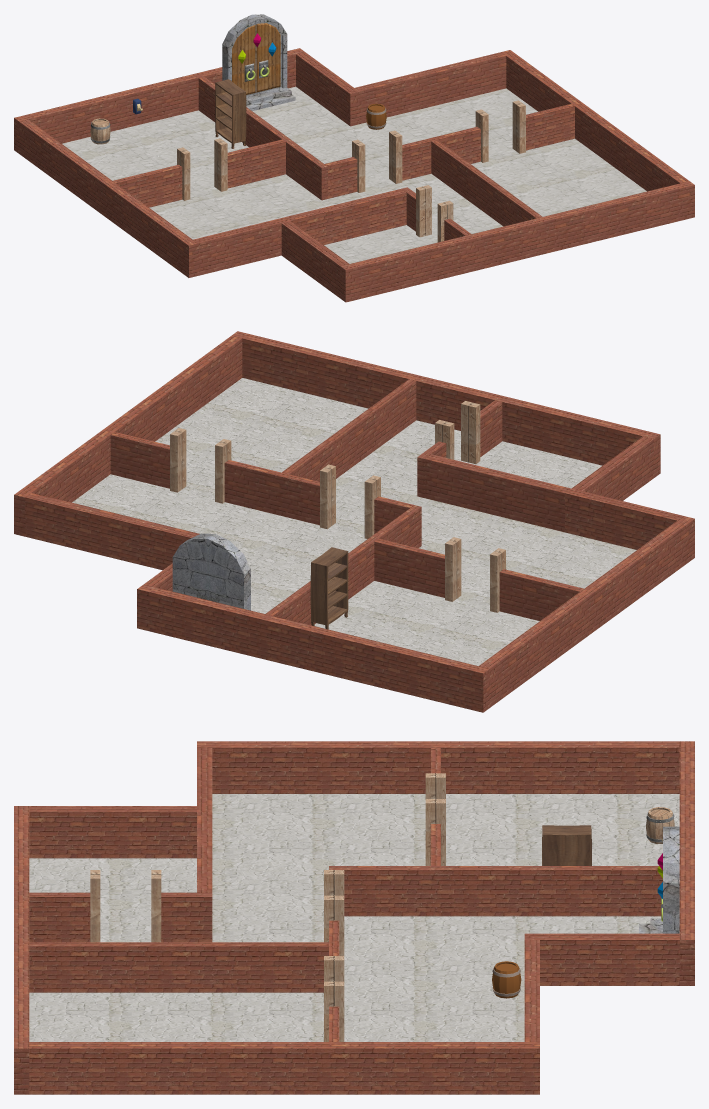
Rendered from brickwall3.glb.
3 renders of one model, top to bottom at view 1: azimuth 30°, elevation 25°; view 2: azimuth 150°, elevation 25°; view 3: azimuth 270°, elevation 25°, orthographic. The views are drawn at different scales.
Parts seen in each view (by area): view 1: floor, wall_bounds_phys.003, wall_bounds_phys.001, wall_bounds_phys, wall_bounds_phys.002, wall_bounds_phys.007, Cube.007, Cube.005, walls_internal_phys.007, walls_internal_phys.005, wall_bounds_phys.004, walls_internal_phys (+10 smaller); view 2: floor, wall_bounds_phys, wall_bounds_phys.003, wall_bounds_phys.001, wall_bounds_phys.002, Cube.007, wall_bounds_phys.007, walls_internal_phys.007, walls_internal_phys.005, Cube.005, wall_bounds_phys.004, walls_internal_phys.004 (+9 smaller); view 3: floor, wall_bounds_phys.002, wall_bounds_phys.001, walls_internal_phys, walls_internal_phys.005, wall_bounds_phys.005, wall_bounds_phys.006, Cube.007, wall_bounds_phys.003, wall_bounds_phys, walls_internal_phys.009, walls_internal_phys.008 (+7 smaller).
Part boxes in pixels (left/top/right/bottom): floor: left=62, top=86, right=646, bottom=263; wall_bounds_phys.003: left=340, top=181, right=694, bottom=302; wall_bounds_phys.001: left=19, top=119, right=197, bottom=277; wall_bounds_phys: left=14, top=48, right=304, bottom=153; wall_bounds_phys.002: left=501, top=50, right=688, bottom=191; wall_bounds_phys.007: left=355, top=52, right=506, bottom=123; Cube.007: left=177, top=100, right=525, bottom=242; Cube.005: left=222, top=14, right=295, bottom=110; walls_internal_phys.007: left=286, top=189, right=406, bottom=244; walls_internal_phys.005: left=431, top=140, right=542, bottom=226; wall_bounds_phys.004: left=193, top=217, right=290, bottom=275; walls_internal_phys: left=198, top=76, right=327, bottom=200; floor: left=72, top=378, right=636, bottom=665; wall_bounds_phys: left=137, top=584, right=489, bottom=712; wall_bounds_phys.003: left=231, top=331, right=660, bottom=477; wall_bounds_phys.001: left=479, top=516, right=694, bottom=707; wall_bounds_phys.002: left=14, top=336, right=242, bottom=536; Cube.007: left=170, top=401, right=505, bottom=612; wall_bounds_phys.007: left=25, top=493, right=199, bottom=570; walls_internal_phys.007: left=424, top=454, right=570, bottom=532; walls_internal_phys.005: left=282, top=379, right=416, bottom=481; Cube.005: left=172, top=533, right=250, bottom=610; wall_bounds_phys.004: left=565, top=488, right=682, bottom=549; walls_internal_phys.004: left=224, top=460, right=319, bottom=525; floor: left=29, top=794, right=679, bottom=1041; wall_bounds_phys.002: left=29, top=1042, right=539, bottom=1094; wall_bounds_phys.001: left=197, top=741, right=679, bottom=793; walls_internal_phys: left=329, top=866, right=662, bottom=916; walls_internal_phys.005: left=29, top=942, right=328, bottom=992; wall_bounds_phys.005: left=29, top=806, right=196, bottom=858; wall_bounds_phys.006: left=524, top=933, right=679, bottom=985; Cube.007: left=90, top=773, right=445, bottom=1041; wall_bounds_phys.003: left=14, top=806, right=29, bottom=1094; wall_bounds_phys: left=679, top=741, right=694, bottom=985; walls_internal_phys.009: left=29, top=892, right=90, bottom=942; walls_internal_phys.008: left=161, top=892, right=212, bottom=942.
Bounding box in the file's own units: 14.3 × 2.56 × 13.4.
Materials: 15 (7 with a texture image).
